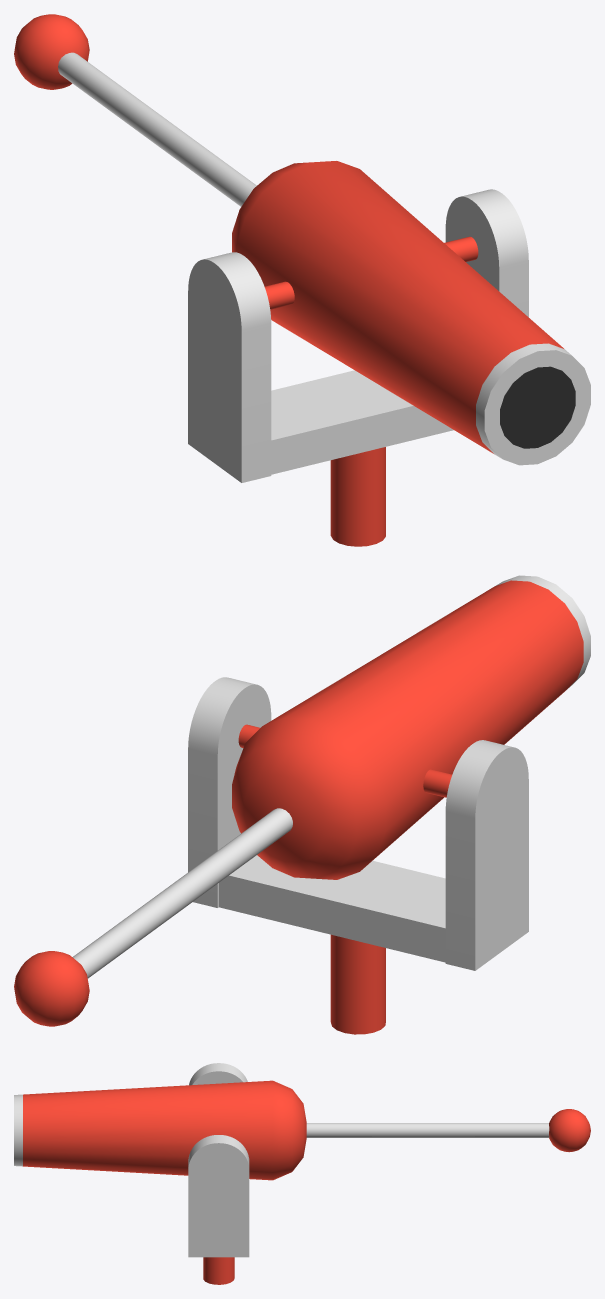
File: Gun C.fbx
3 renders of one model, top to bottom at view 1: azimuth 30°, elevation 25°; view 2: azimuth 150°, elevation 25°; view 3: azimuth 270°, elevation 25°, orthographic. The views are drawn at different scales.
Visible parts, largest first — view 1: Gun C.001, Gun C, Gun C.002; view 2: Gun C.001, Gun C, Gun C.002; view 3: Gun C.001, Gun C, Gun C.002.
Part boxes in pixels (bbox=[...]): Gun C.001: bbox=[232, 161, 590, 465]; Gun C: bbox=[188, 189, 528, 546]; Gun C.002: bbox=[14, 14, 256, 206]; Gun C.001: bbox=[232, 575, 590, 879]; Gun C: bbox=[188, 677, 528, 1034]; Gun C.002: bbox=[14, 808, 292, 1026]; Gun C.001: bbox=[14, 1080, 306, 1180]; Gun C: bbox=[188, 1063, 249, 1284]; Gun C.002: bbox=[306, 1109, 590, 1152].
Bounding box in the file's own units: 238 × 268 × 726.
